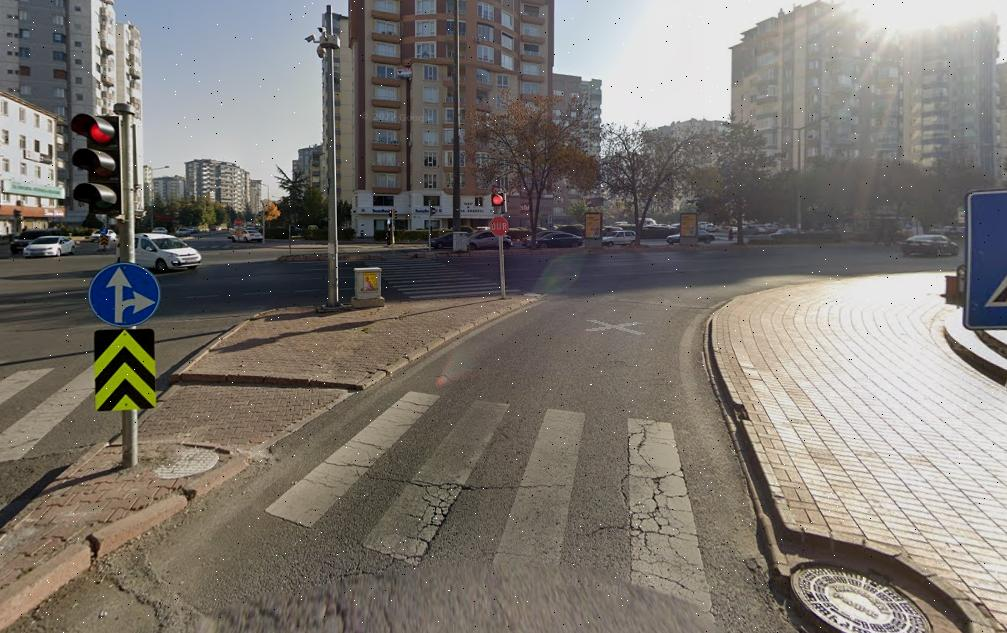redlight: (68, 113, 123, 213), (492, 192, 507, 211)
stop: (490, 218, 512, 236)
